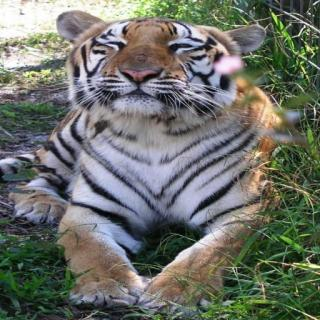Tiger: (14, 8, 295, 314)
